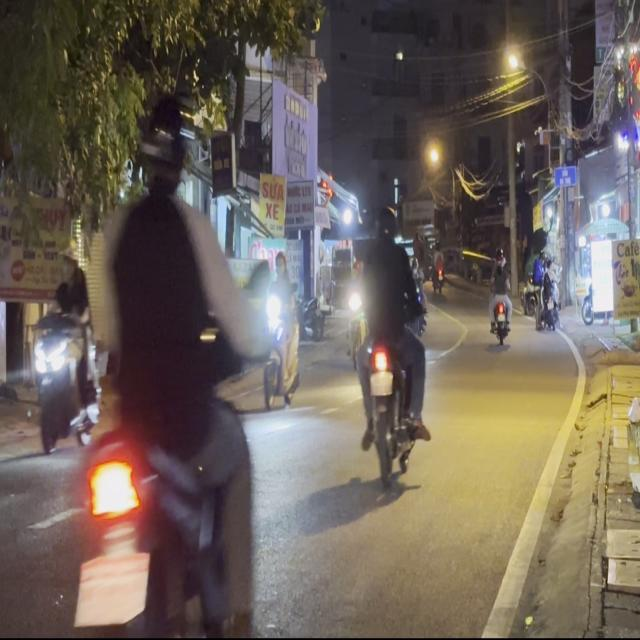helmet: (136, 94, 188, 194)
licenseplate: (53, 90, 267, 632), (352, 192, 430, 494)
motorcyclist: (371, 201, 397, 238)
nohelmet: (75, 554, 148, 623), (370, 370, 392, 394)
